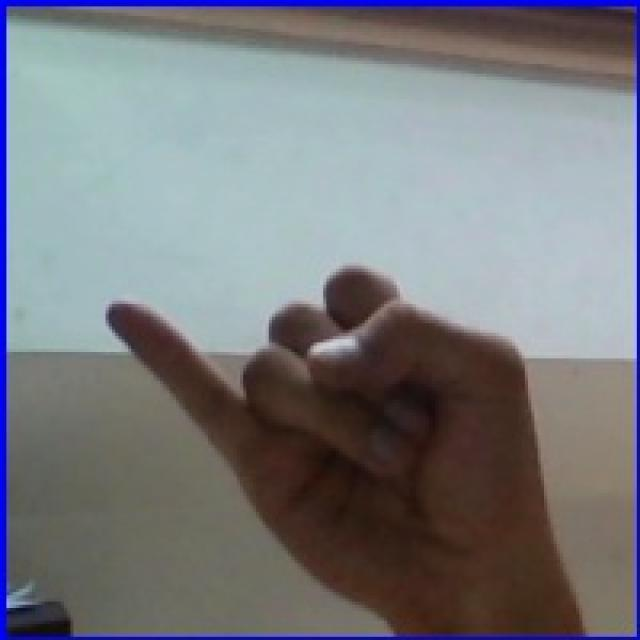J: (70, 207, 635, 632)
